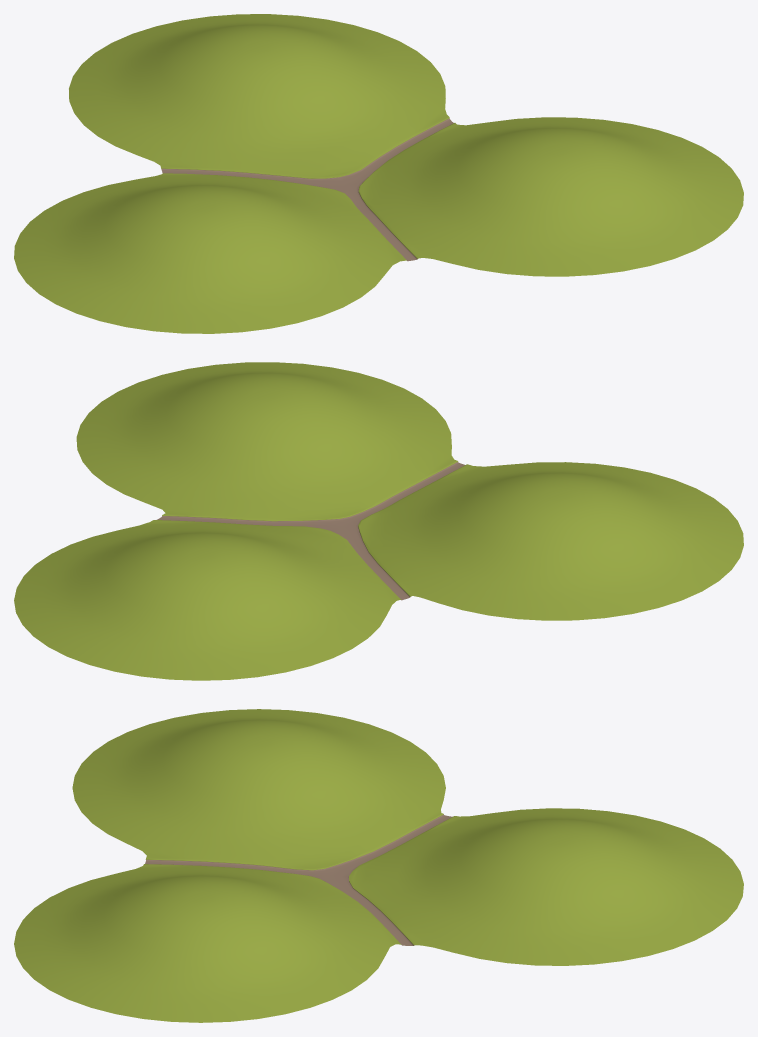
Rendered from land.fbx.
3 views of the same model, one above another, from view 1: azimuth 30°, elevation 25°; view 2: azimuth 150°, elevation 25°; view 3: azimuth 270°, elevation 25° (orthographic).
Parts seen in each view (by area): view 1: pSphere4; view 2: pSphere4; view 3: pSphere4.
Part boxes in pixels (bbox=[...]): pSphere4: bbox=[14, 14, 743, 333]; pSphere4: bbox=[14, 362, 743, 680]; pSphere4: bbox=[14, 709, 743, 1022].
Bounding box in the file's own units: 6506 × 472 × 6396.
